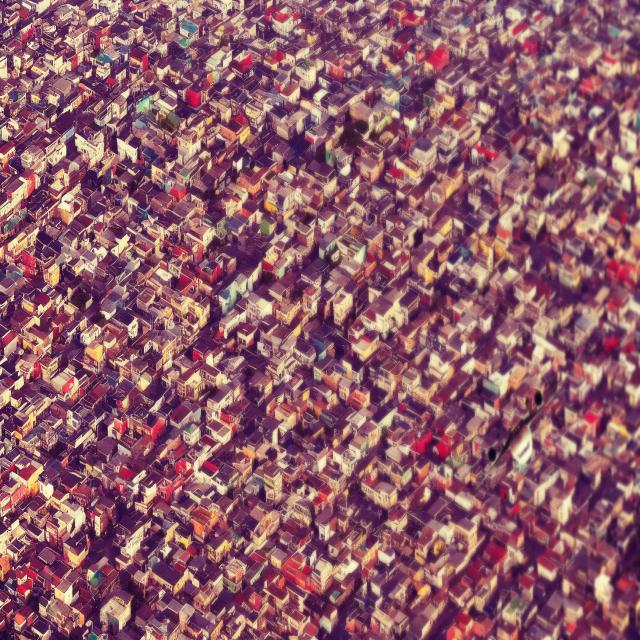airplane: (475, 376, 569, 489)
